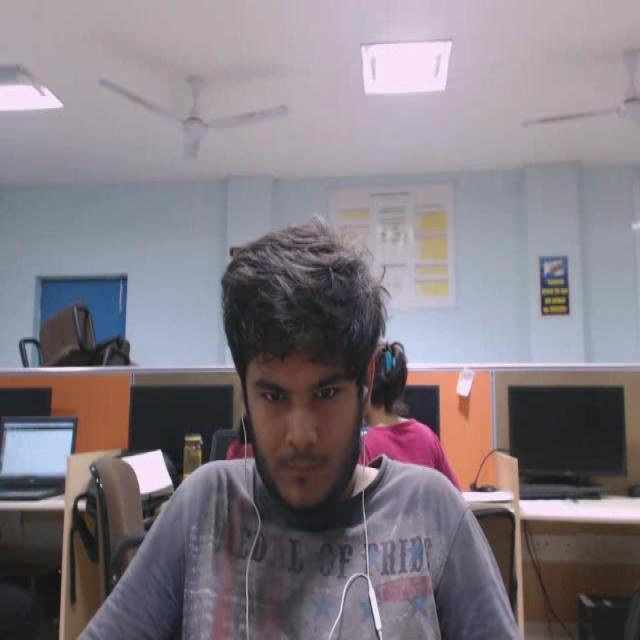Engaged: (188, 208, 414, 556)
